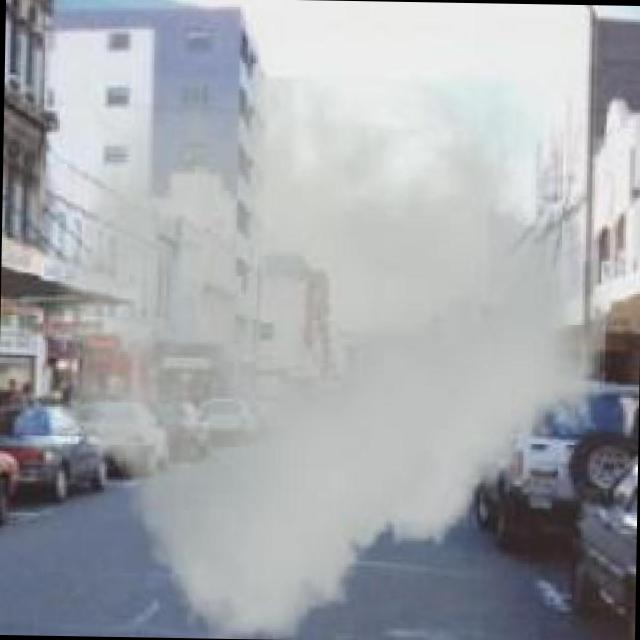Smoke: (49, 72, 614, 640)
